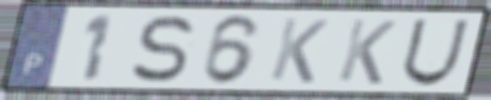1: (81, 13, 114, 83)
6: (201, 12, 262, 87)
K: (266, 16, 332, 86), (334, 17, 399, 87)
S: (127, 13, 197, 85)
U: (398, 17, 473, 88)
